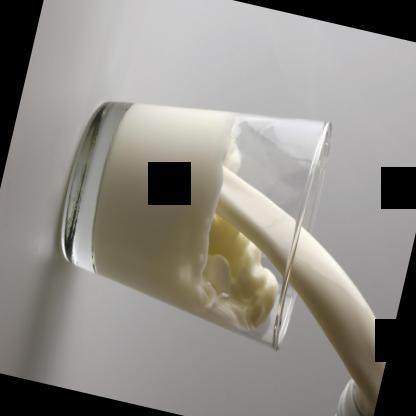milk: (44, 66, 336, 352)
